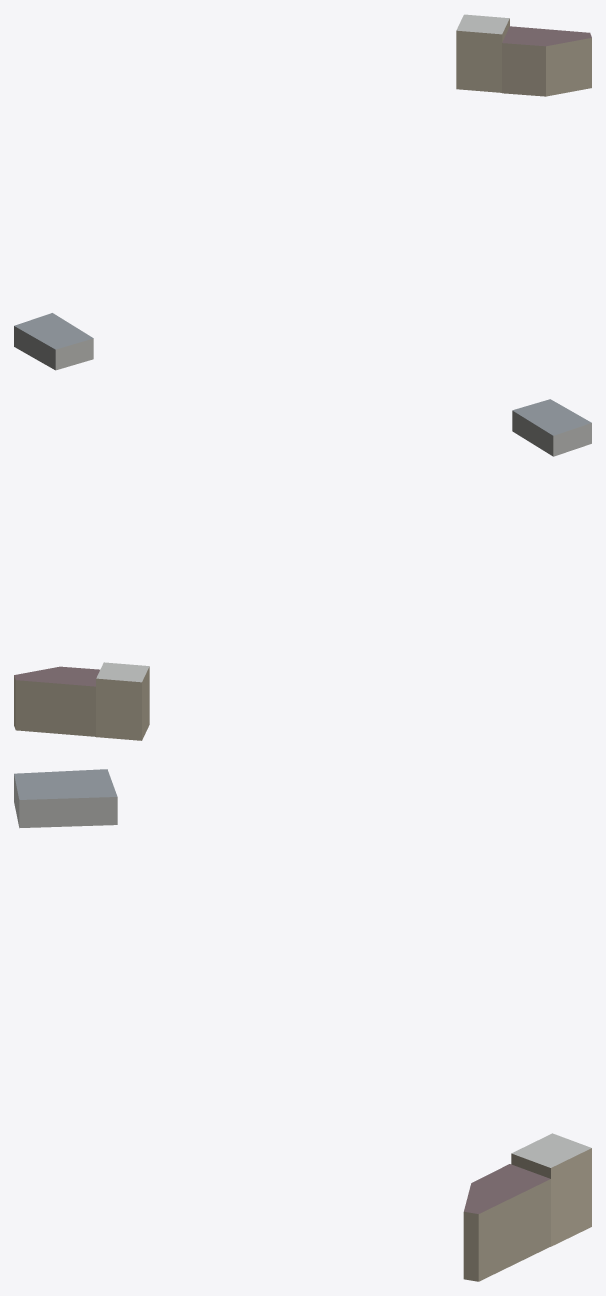
3 renders of one model, top to bottom at view 1: azimuth 30°, elevation 25°; view 2: azimuth 210°, elevation 25°; view 3: azimuth 270°, elevation 25°, orthographic. The views are drawn at different scales.
Visible parts, largest first — view 1: tuile; view 2: tuile; view 3: tuile.
Boxes of the visible parts, bbox=[...] form: tuile: bbox=[14, 14, 591, 370]; tuile: bbox=[14, 399, 591, 740]; tuile: bbox=[14, 769, 591, 1281].
Bounding box in the file's own units: 208 × 16.29 × 108.
